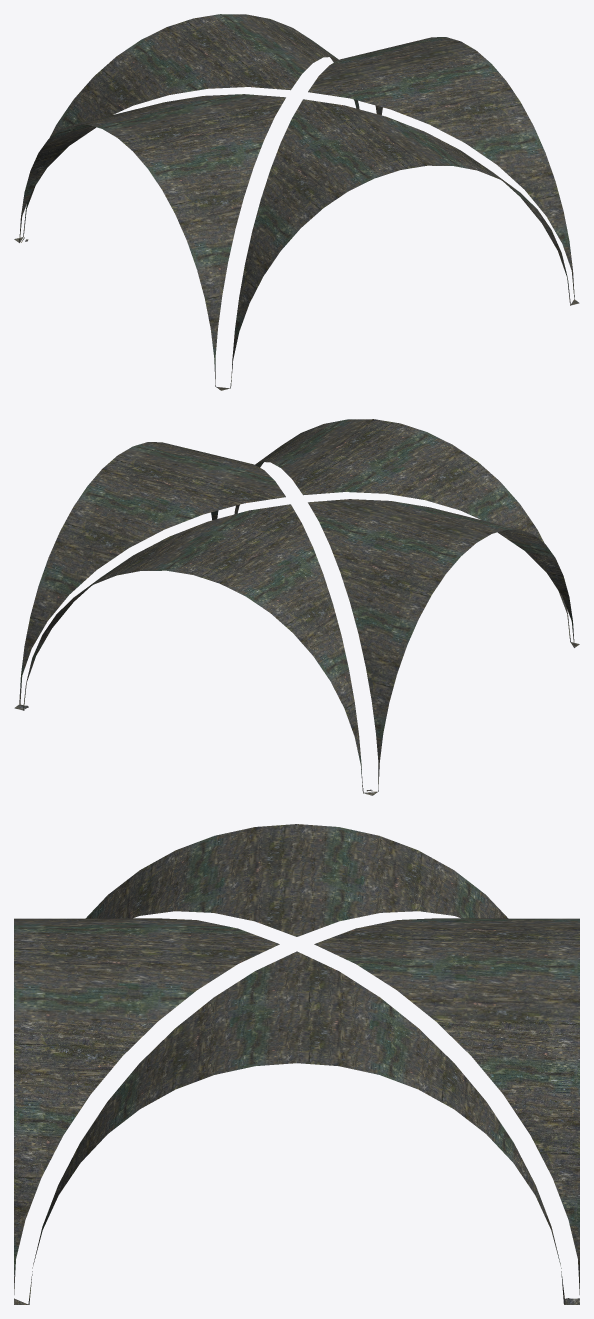
The picture shows the model from 3 angles, top to bottom: view 1: azimuth 30°, elevation 25°; view 2: azimuth 150°, elevation 25°; view 3: azimuth 270°, elevation 25°; orthographic projection. The views are drawn at different scales.
Visible parts, largest first — view 1: SM_Root_LOD0; view 2: SM_Root_LOD0; view 3: SM_Root_LOD0.
Boxes of the visible parts, bbox=[...] form: SM_Root_LOD0: bbox=[14, 14, 579, 390]; SM_Root_LOD0: bbox=[14, 419, 579, 795]; SM_Root_LOD0: bbox=[14, 824, 579, 1304].
Size of the model in its own units: 6 by 2.83 by 6.
